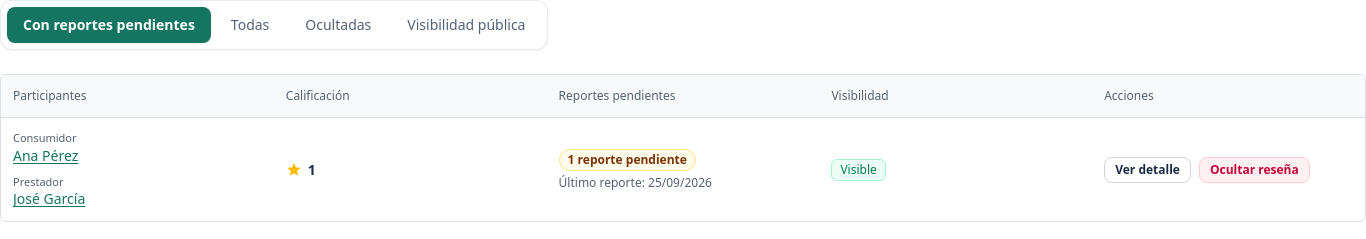
ModerationPage › filters reviews when clicking a status tab
The width and height of the screenshot is (1366, 239).
Expected: the link "Ana Pérez" is shown, left=13, top=146, right=78, bottom=165
Click the tab "Ocultadas". click: (338, 25)
box: left=289, top=7, right=387, bottom=43
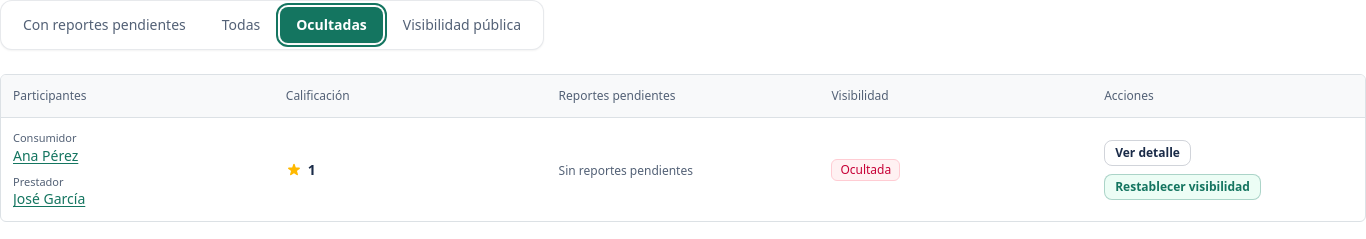
Expected: the link "Ana Pérez" is shown, left=13, top=146, right=78, bottom=165
Now the text "Ocultada" is shown, box left=831, top=159, right=900, bottom=181
